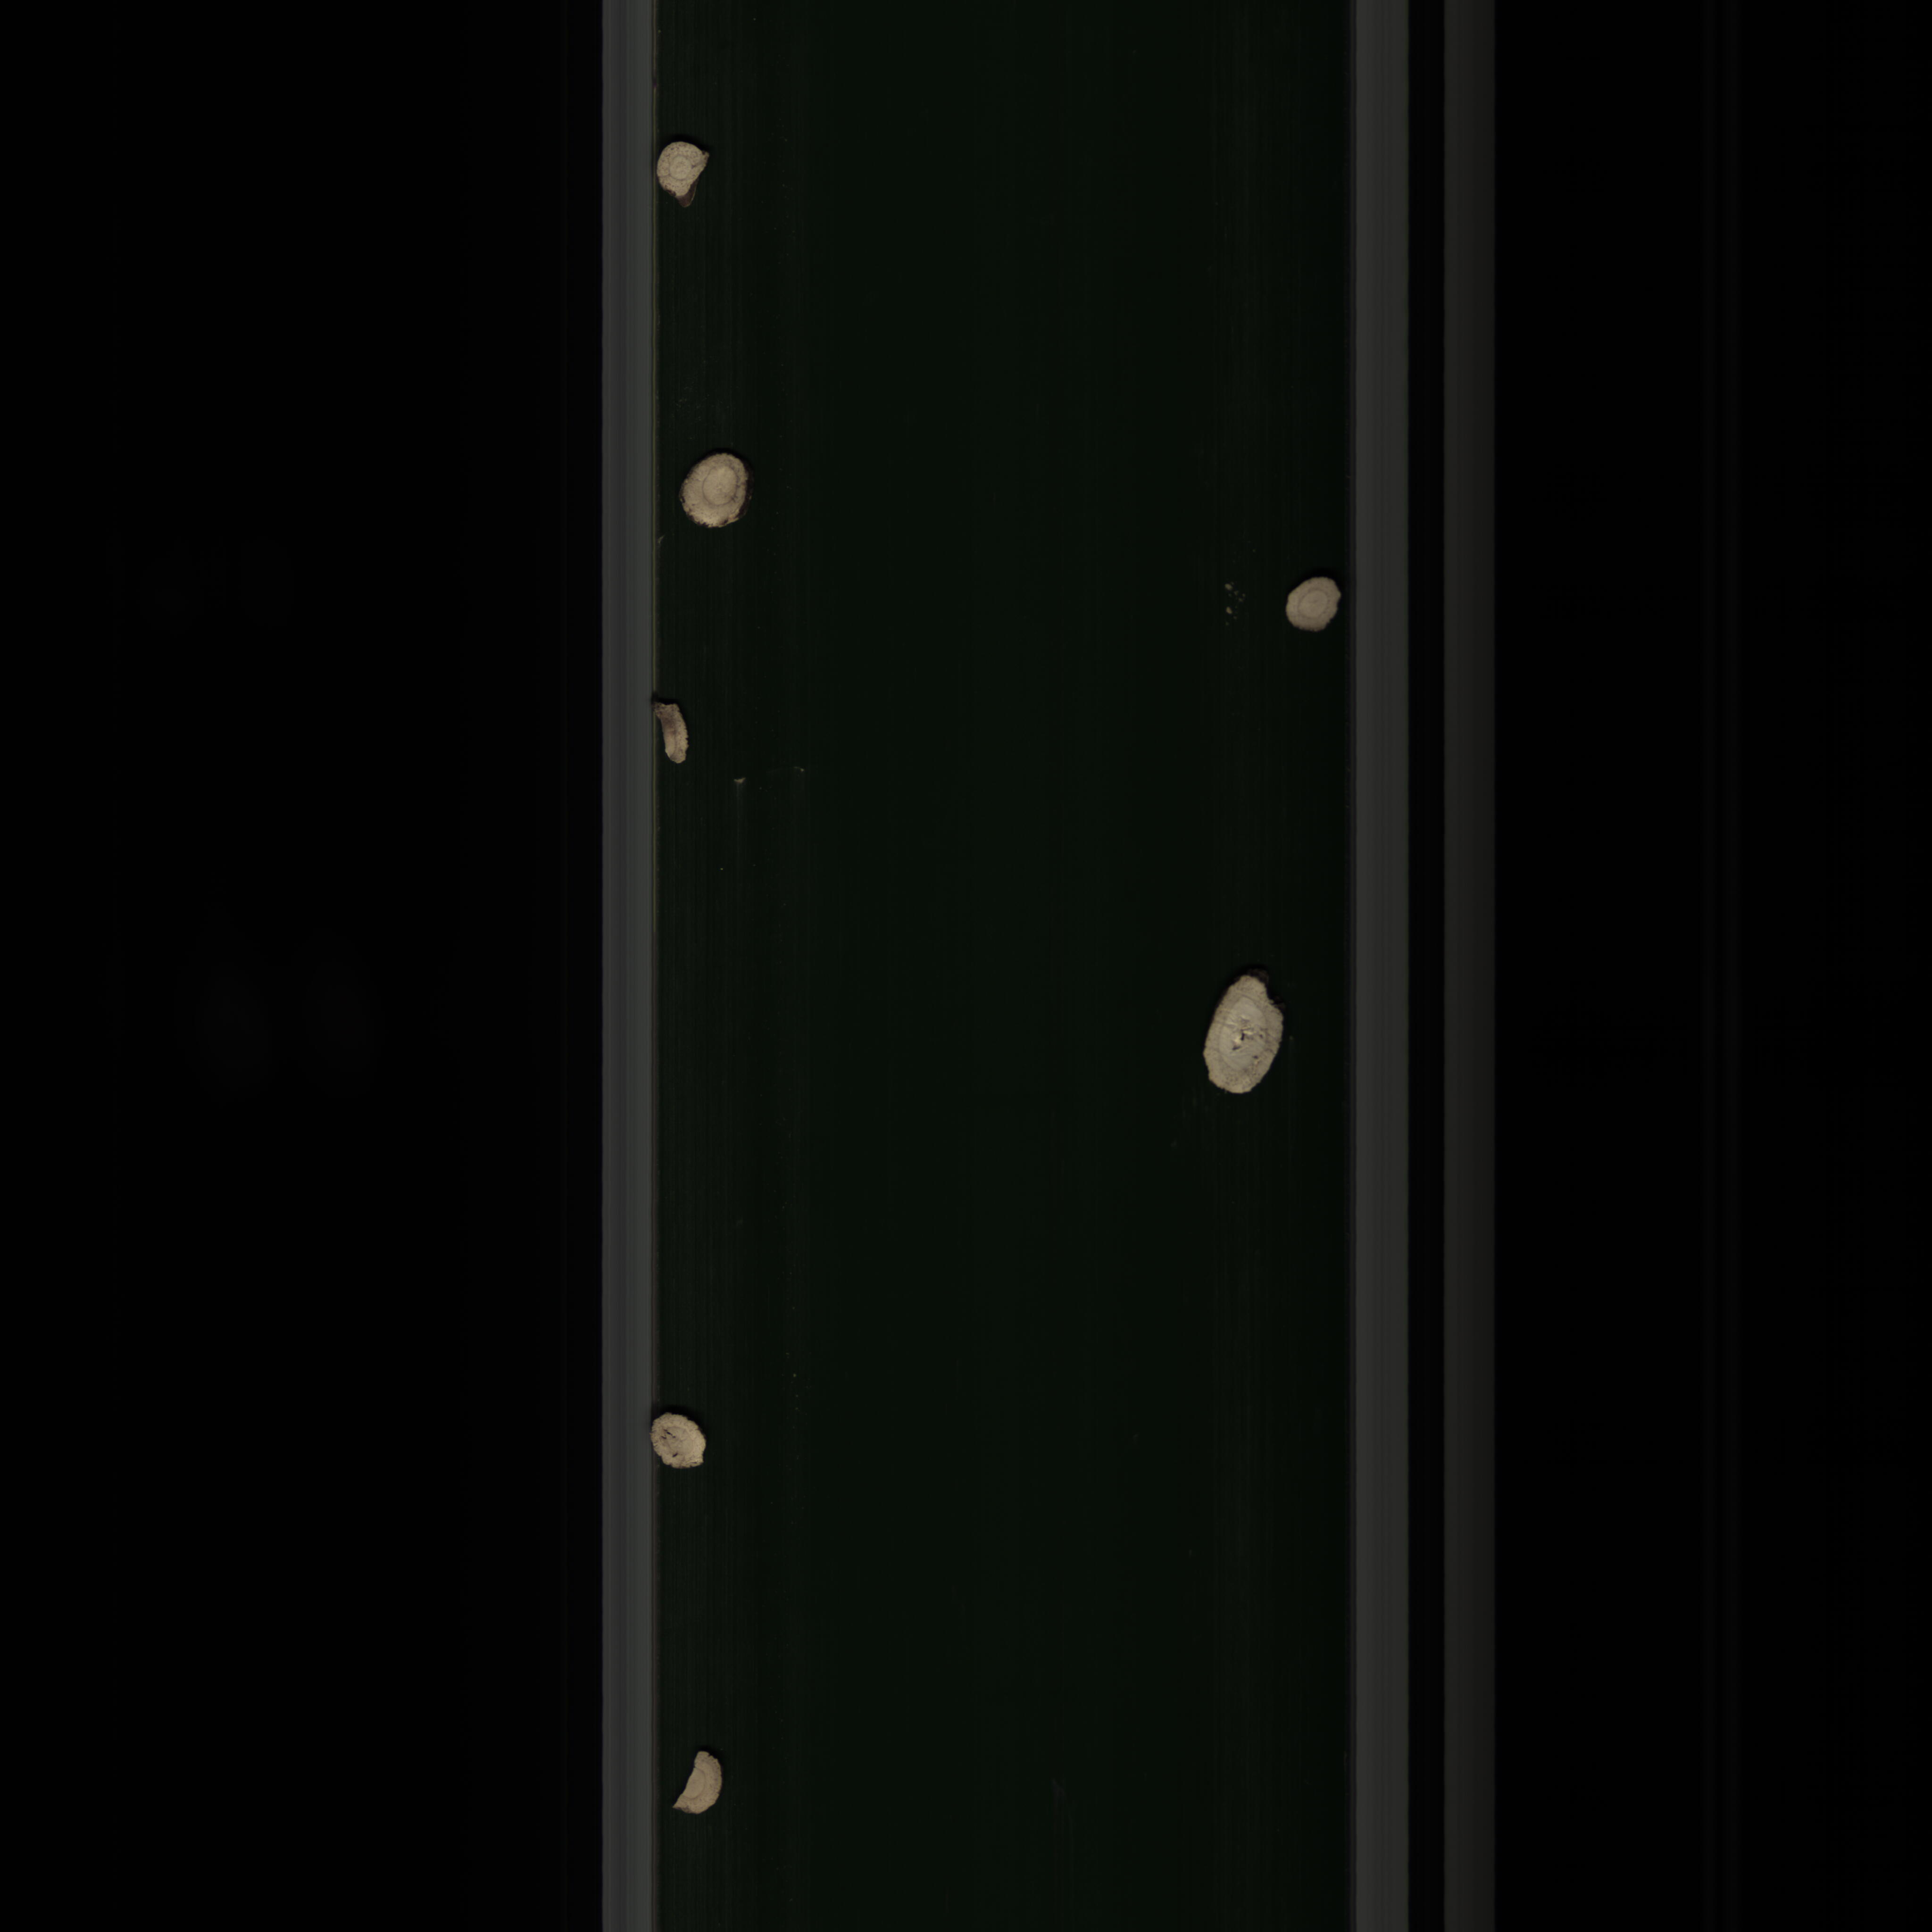bark: (640, 690, 699, 775)
debris: (671, 1743, 729, 1824)
distortion: (651, 133, 713, 218)
